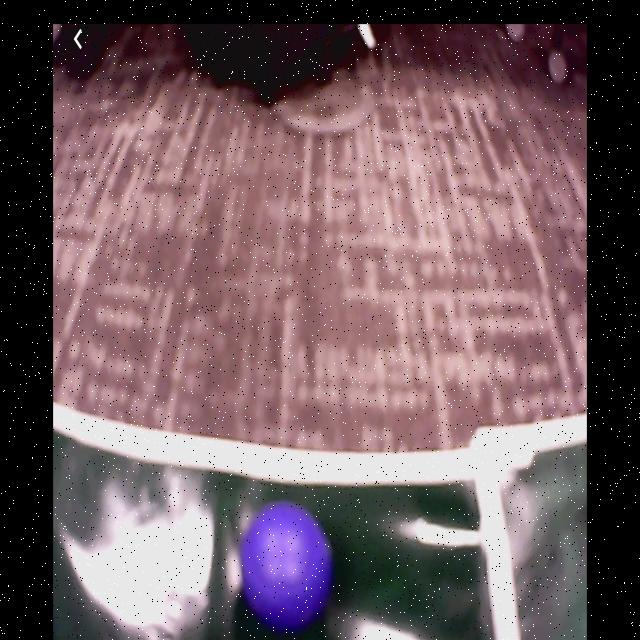ball: (243, 498, 326, 628)
